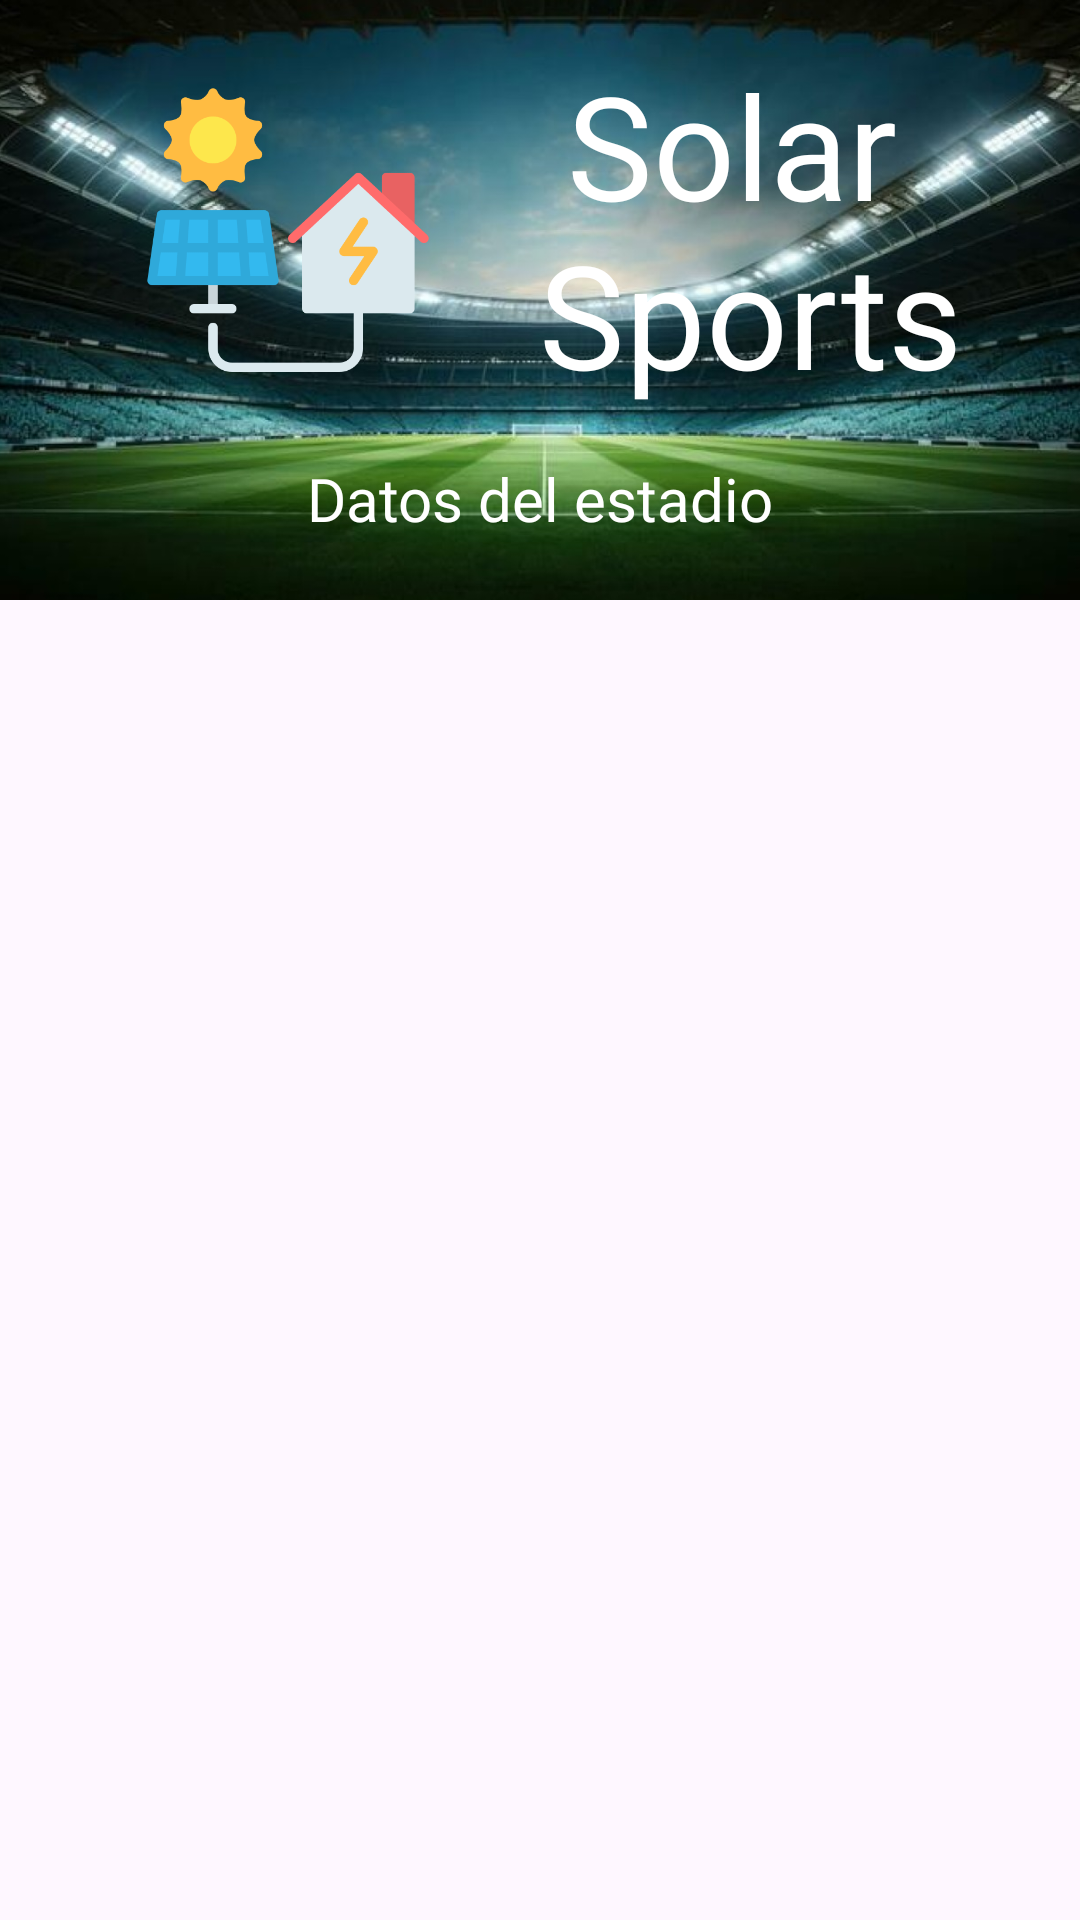

Where to tap for icons on this 1080px x 1920px app screen, as (x=x, y=y):
Panel: (x=288, y=229)
